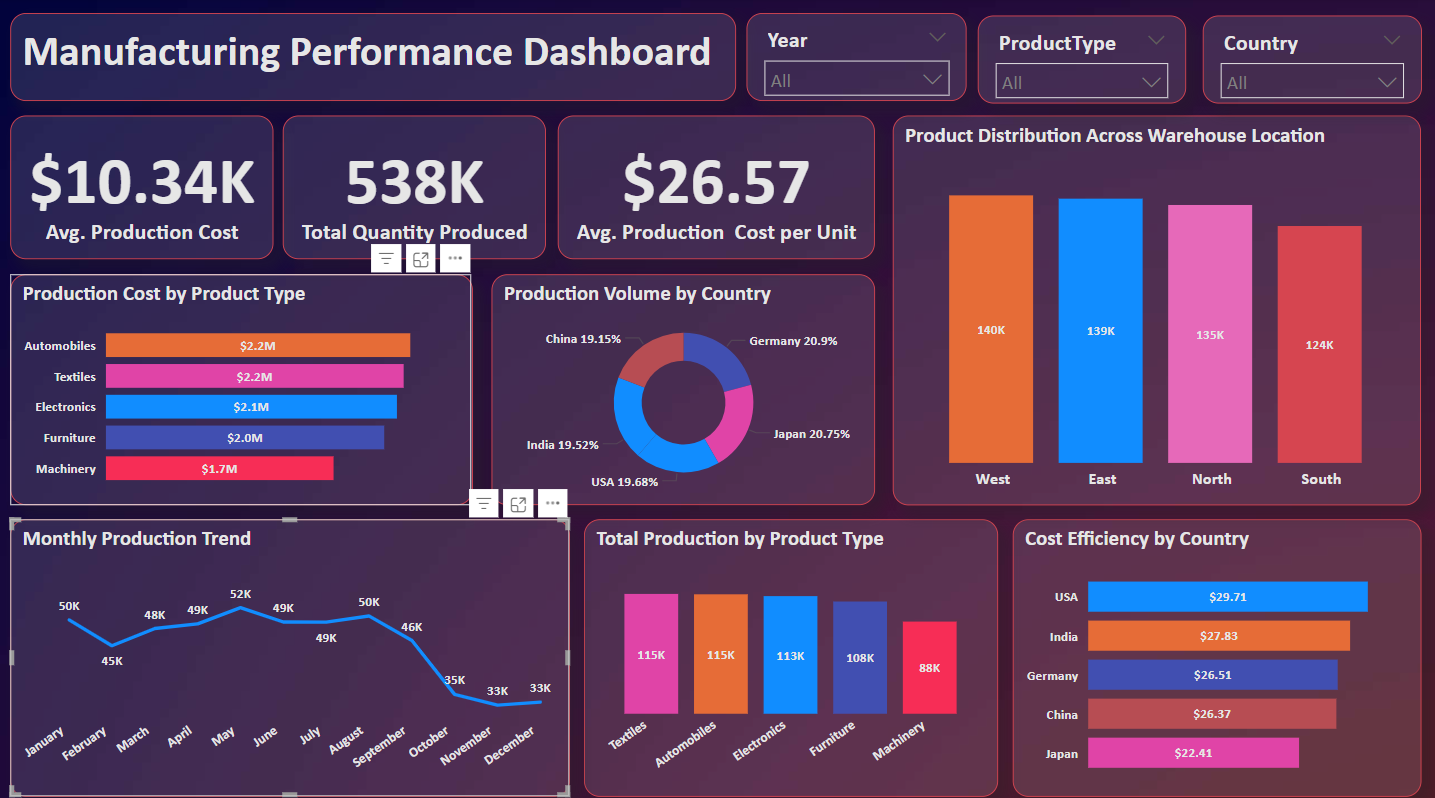

This screenshot's page, from the dashboard's own definition file:
{"tool":"powerbi","page":{"name":"Product_manufacturing_Dashboard","canvas":[1280,720],"ordinal":0},"visuals":[{"type":"textbox","box":[9.6,13.7,646.3,78.2],"z":0},{"type":"card","title":"uifufuf","fields":{"Values":["Avg(Product_dataset.ProductionCost)"]},"box":[9.6,104.3,234.6,127.6],"z":1000},{"type":"card","title":"uifufuf","fields":{"Values":["Sum(Product_dataset.QuantityProduced)"]},"box":[252.5,104.3,234.6,127.6],"z":2000},{"type":"card","title":"uifufuf","fields":{"Values":["Avg(Product_dataset.CostEfficiency)"]},"box":[498.1,104.3,282.7,127.6],"z":3000},{"type":"clusteredBarChart","title":"Production Cost by Product Type","fields":{"Category":["Product_dataset.ProductType"],"Y":["Sum(Product_dataset.ProductionCost)"]},"box":[9.6,245.6,411.7,205.8],"z":4000},{"type":"donutChart","title":"Production Volume by Country","fields":{"Category":["Product_dataset.CountryOfOrigin"],"Y":["Sum(Product_dataset.QuantityProduced)"]},"box":[439.1,245.6,341.7,205.8],"z":5000},{"type":"lineChart","title":"Monthly Production Trend ","fields":{"Category":["Product_dataset.ProductionDate.Variation.Date Hierarchy.Month"],"Y":["Sum(Product_dataset.QuantityProduced)"]},"box":[9.6,463.8,498.1,247],"z":6000},{"type":"columnChart","title":"Total Production by Product Type","fields":{"Category":["Product_dataset.ProductType"],"Y":["Sum(Product_dataset.QuantityProduced)"]},"box":[521.4,463.8,369.1,247],"z":7000},{"type":"clusteredBarChart","title":"Cost Efficiency by Country","fields":{"Category":["Product_dataset.CountryOfOrigin"],"Y":["Avg(Product_dataset.CostEfficiency)"]},"box":[902.9,463.8,363.6,247],"z":8000},{"type":"columnChart","title":"Product Distribution Across Warehouse Location","fields":{"Category":["Product_dataset.WarehouseLocation"],"Y":["Sum(Product_dataset.QuantityProduced)"]},"box":[795.9,104.3,470.7,347.2],"z":9000},{"type":"slicer","fields":{"Values":["Product_dataset.ProductionDate.Variation.Date Hierarchy.Year"]},"box":[665.5,13.7,196.2,78.2],"z":10000},{"type":"slicer","fields":{"Values":["Product_dataset.ProductType"]},"box":[871.4,15.1,185.2,78.2],"z":11000},{"type":"slicer","fields":{"Values":["Product_dataset.CountryOfOrigin"]},"box":[1071.7,15.1,194.9,78.2],"z":12000}]}

Visuals, with their boxes in screenshot pixels (x1, y1, x2, y2), scaled from the page's 1280x720 canvas onto the 1435x798 screenshot:
textbox: select_region(11, 15, 735, 102)
"uifufuf" card: select_region(11, 116, 274, 257)
"uifufuf" card: select_region(283, 116, 546, 257)
"uifufuf" card: select_region(558, 116, 875, 257)
"Production Cost by Product Type" clusteredBarChart: select_region(11, 272, 472, 500)
"Production Volume by Country" donutChart: select_region(492, 272, 875, 500)
"Monthly Production Trend " lineChart: select_region(11, 514, 569, 788)
"Total Production by Product Type" columnChart: select_region(585, 514, 998, 788)
"Cost Efficiency by Country" clusteredBarChart: select_region(1012, 514, 1420, 788)
"Product Distribution Across Warehouse Location" columnChart: select_region(892, 116, 1420, 500)
slicer - Product_dataset.ProductionDate.Variation.Date Hierarchy.Year: select_region(746, 15, 966, 102)
slicer - Product_dataset.ProductType: select_region(977, 17, 1185, 103)
slicer - Product_dataset.CountryOfOrigin: select_region(1201, 17, 1420, 103)
